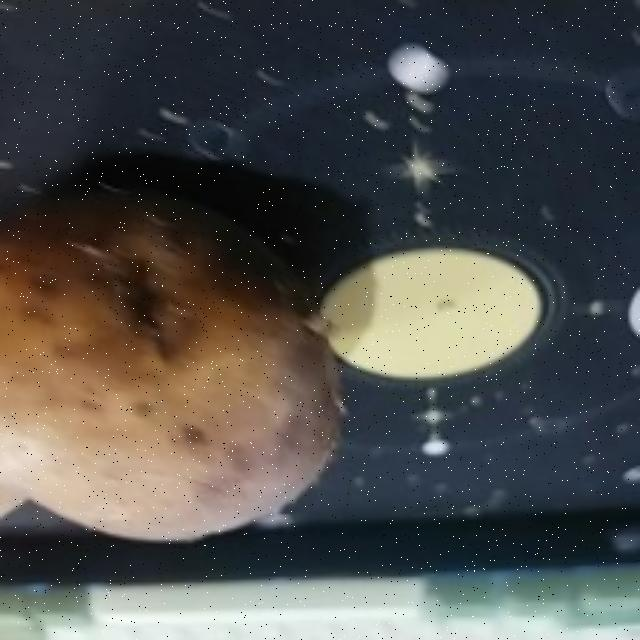Damaged potato: (1, 155, 332, 540)
